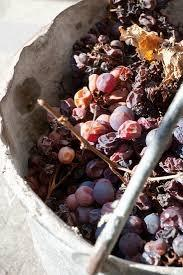Grape Overripe: (47, 180, 99, 223), (97, 131, 142, 166)
Grape Rotten: (112, 0, 182, 132)
